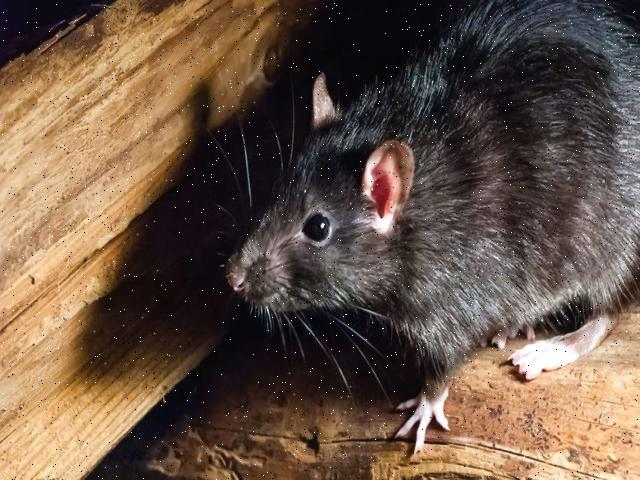Tikus: (225, 2, 632, 455)
